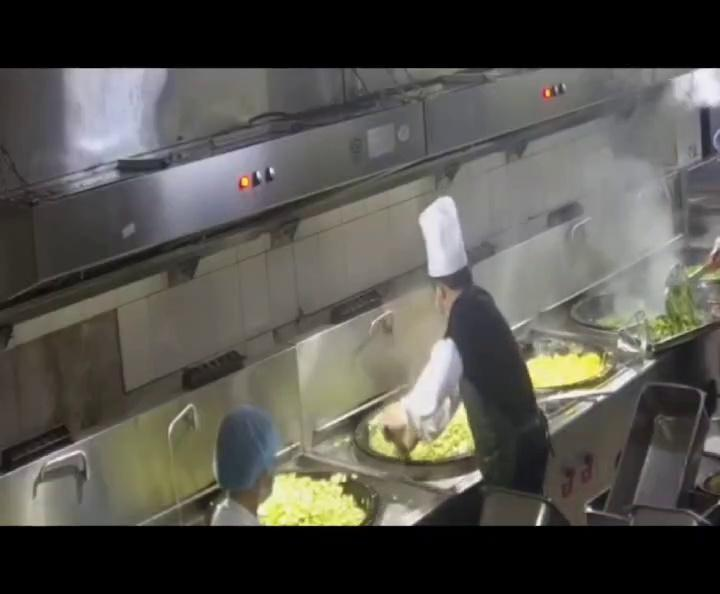gloves: (209, 399, 281, 496)
